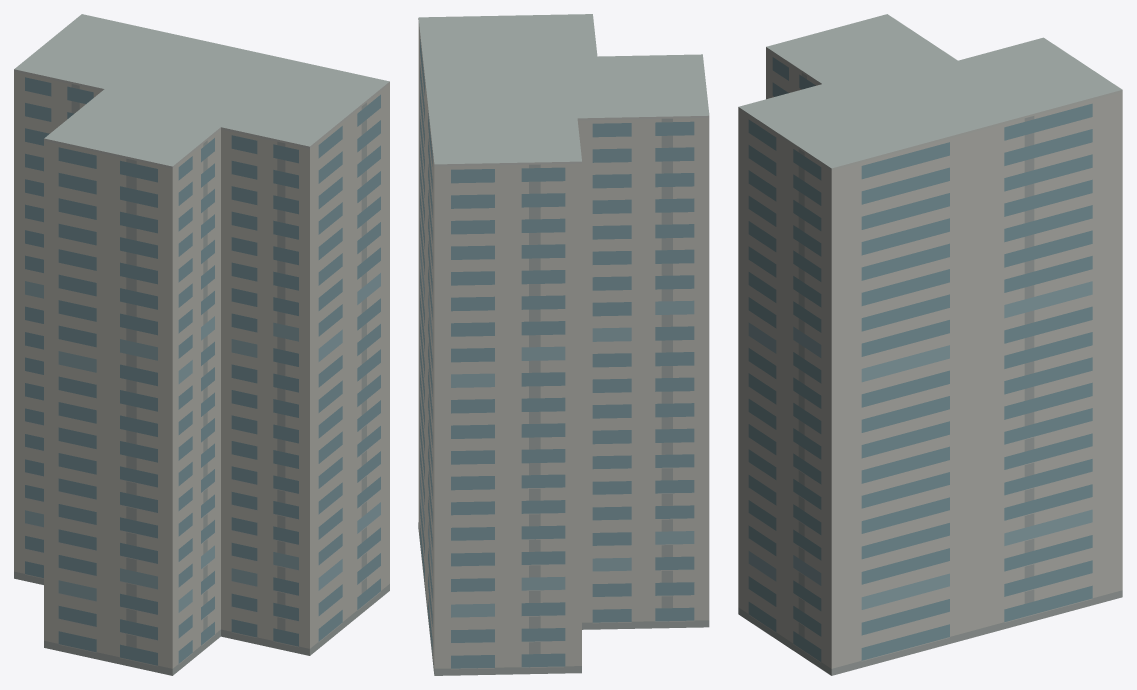
Rendered from residential-0741004a-d99b-4e35-8815-5d528eb19319.glb.
The picture shows the model from 3 angles, left to right: view 1: azimuth 30°, elevation 25°; view 2: azimuth 150°, elevation 25°; view 3: azimuth 270°, elevation 25°; orthographic projection.
Visible parts, largest first — view 1: residential-0741004a-d99b-4e35-8815-5d528eb19319.tmp; view 2: residential-0741004a-d99b-4e35-8815-5d528eb19319.tmp; view 3: residential-0741004a-d99b-4e35-8815-5d528eb19319.tmp.
Part boxes in pixels (box(x1,y1,x2,y2)): residential-0741004a-d99b-4e35-8815-5d528eb19319.tmp: box(14, 14, 389, 675); residential-0741004a-d99b-4e35-8815-5d528eb19319.tmp: box(418, 14, 709, 675); residential-0741004a-d99b-4e35-8815-5d528eb19319.tmp: box(738, 14, 1122, 675).
Bounding box in the file's own units: 38.53 × 59 × 40.51.
